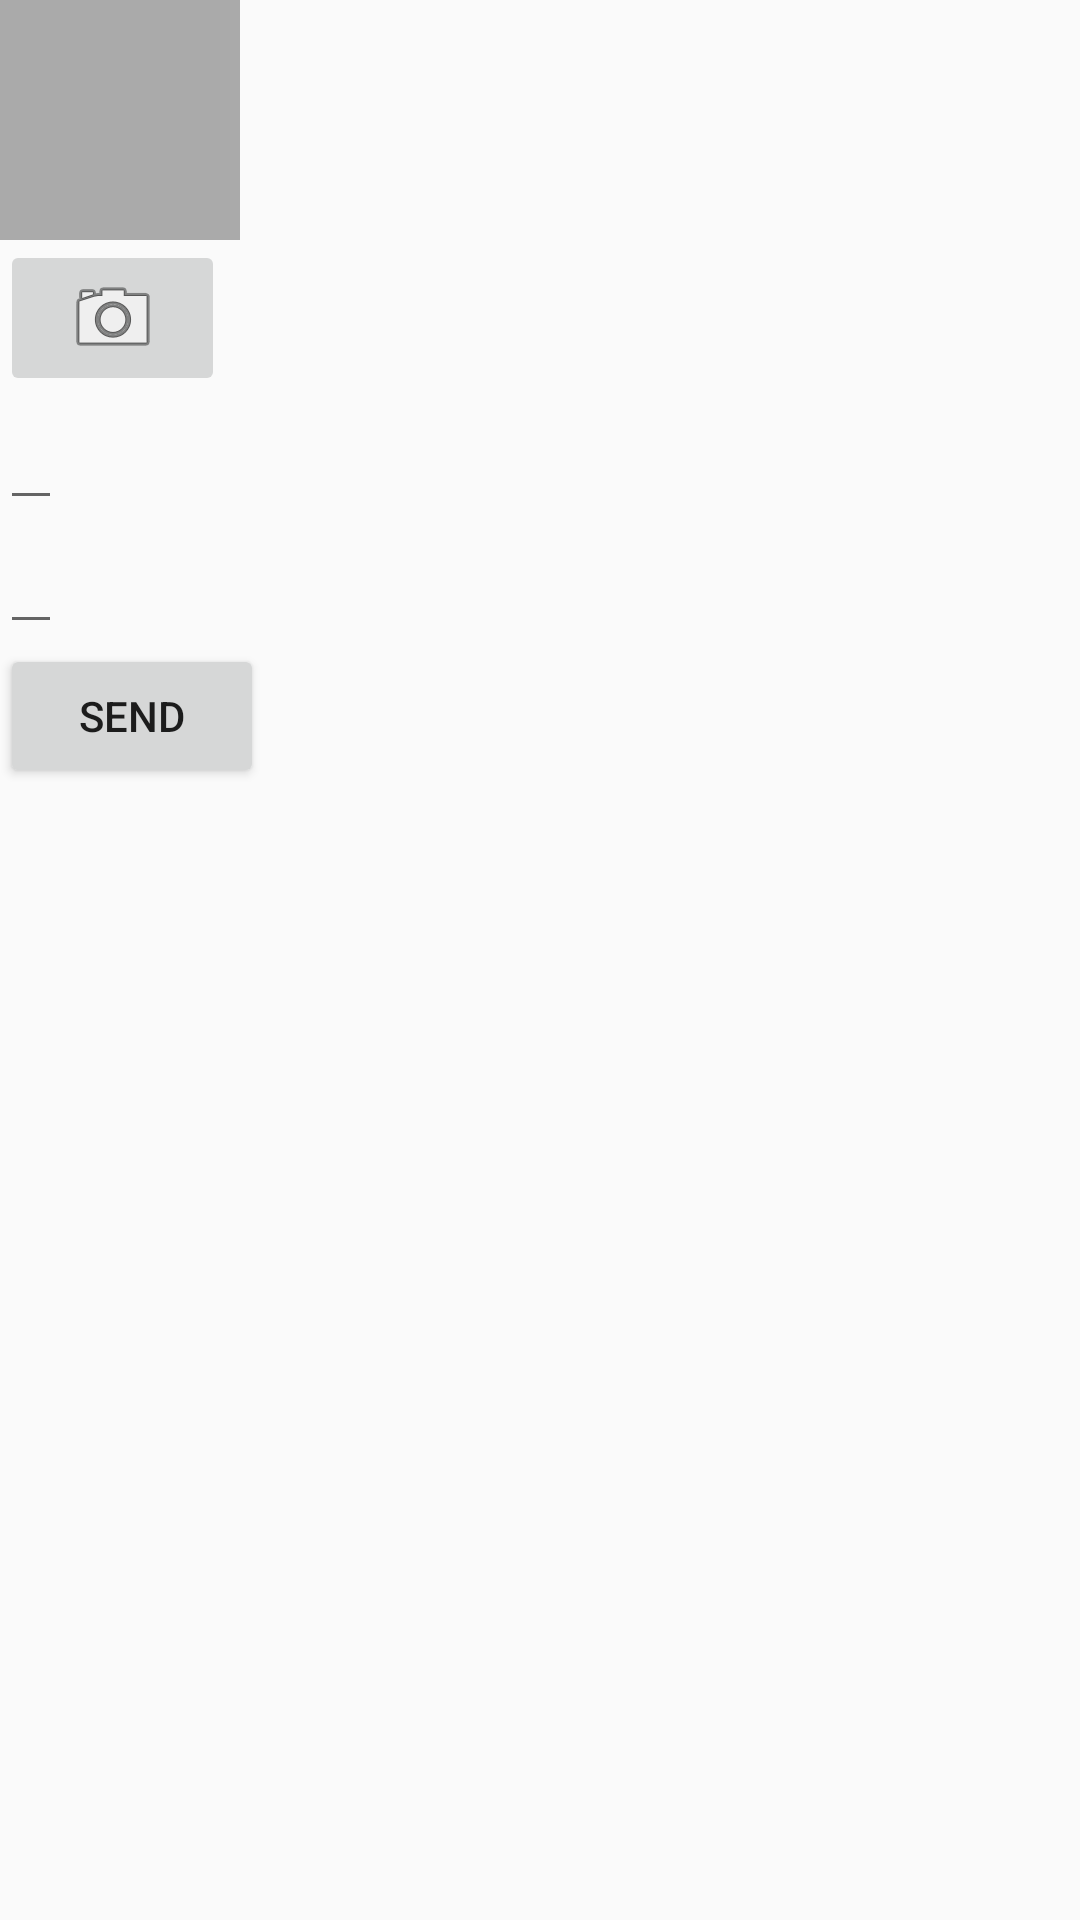

Screen size 1080×1920. Icon name, then its box in pixels as (x1, y1, x2, y2):
Take photo: (12, 258, 213, 378)
